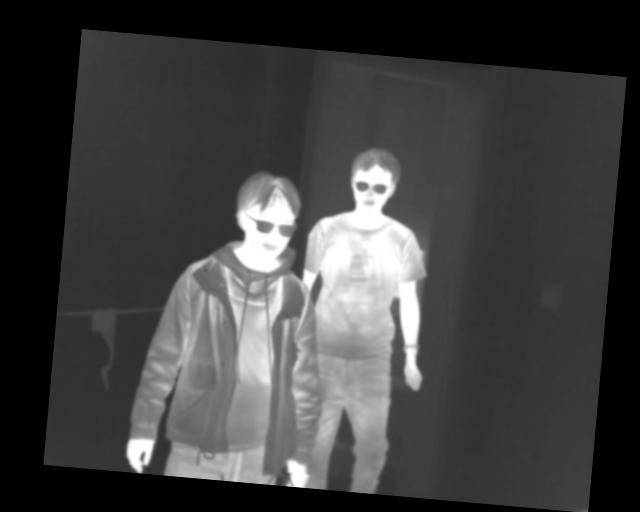face: (231, 167, 302, 260), (346, 144, 401, 218)
